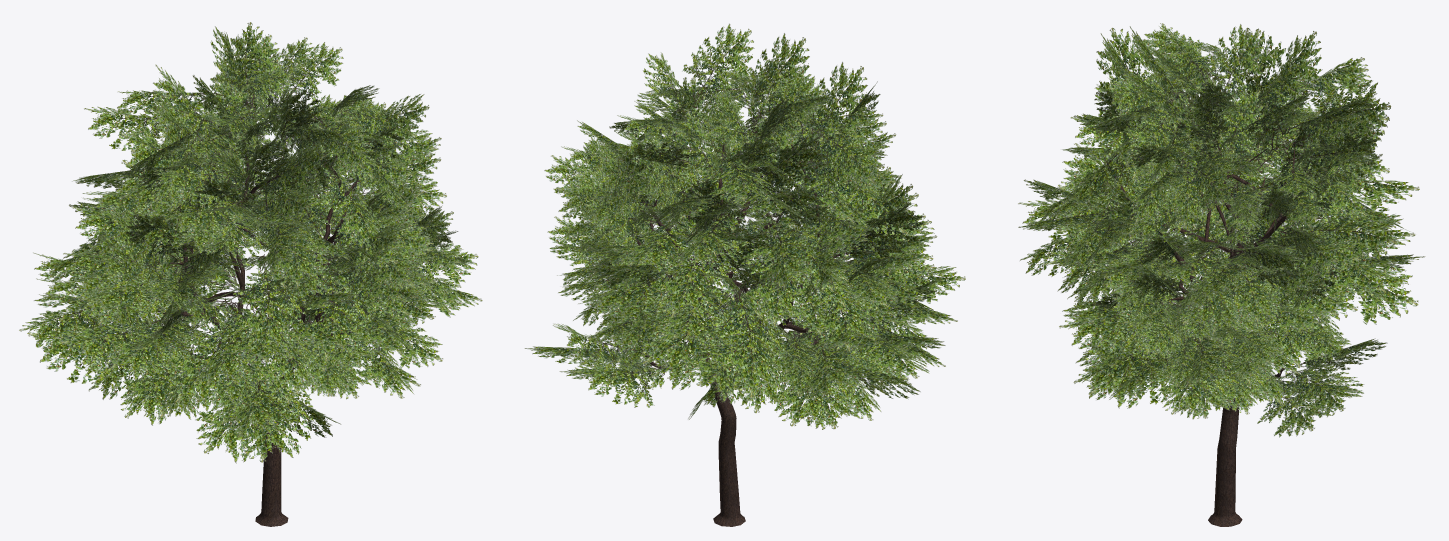
Rendered from teste_arvore_2 (1).glb.
The picture shows the model from 3 angles, left to right: view 1: azimuth 30°, elevation 25°; view 2: azimuth 150°, elevation 25°; view 3: azimuth 270°, elevation 25°; orthographic projection. The views are drawn at different scales.
Parts seen in each view (by area): view 1: polySurface26_1, polySurface254_001_0; view 2: polySurface26_1, polySurface254_001_0; view 3: polySurface26_1, polySurface254_001_0.
Boxes of the visible parts, box(x1,y1,x2,y2) form: polySurface26_1: box(19, 22, 482, 463); polySurface254_001_0: box(146, 139, 362, 526); polySurface26_1: box(524, 23, 965, 429); polySurface254_001_0: box(632, 115, 851, 526); polySurface26_1: box(1018, 23, 1425, 437); polySurface254_001_0: box(1103, 100, 1295, 526).
Size of the model in its own units: 0.0996 by 0.1068 by 0.0845.
2 materials, 2 textured.
